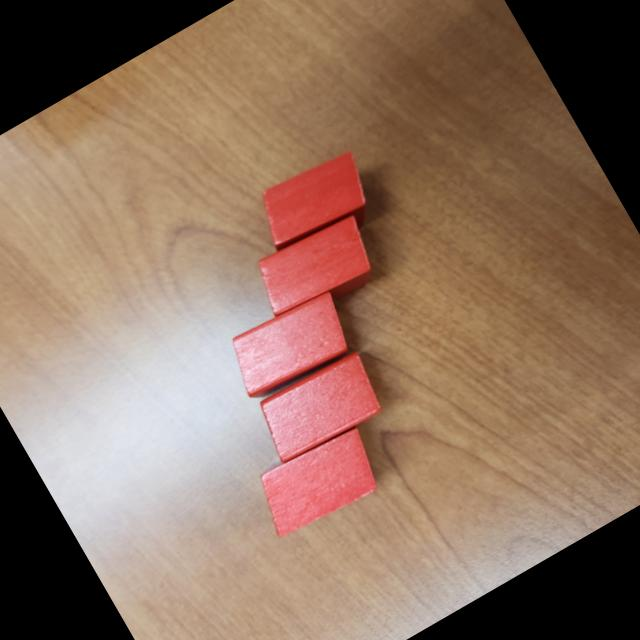red: (246, 206, 390, 333), (217, 283, 363, 408), (246, 421, 390, 546), (249, 346, 392, 470), (249, 142, 380, 255)
